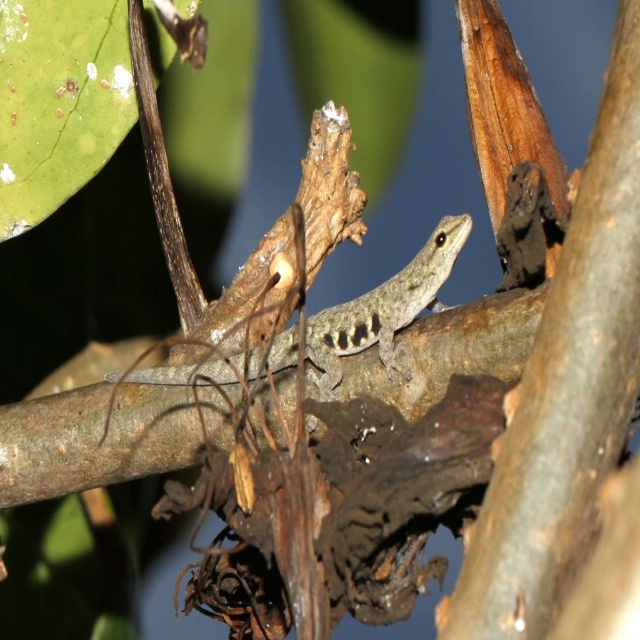Lizard: (105, 210, 471, 382)
